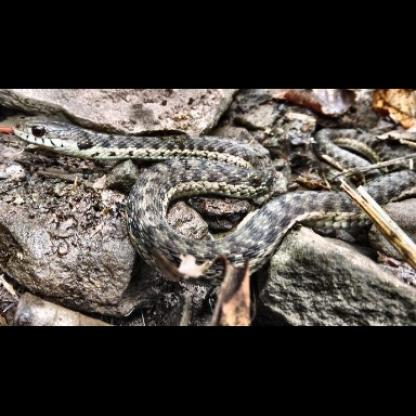Snake: (8, 107, 416, 285)
